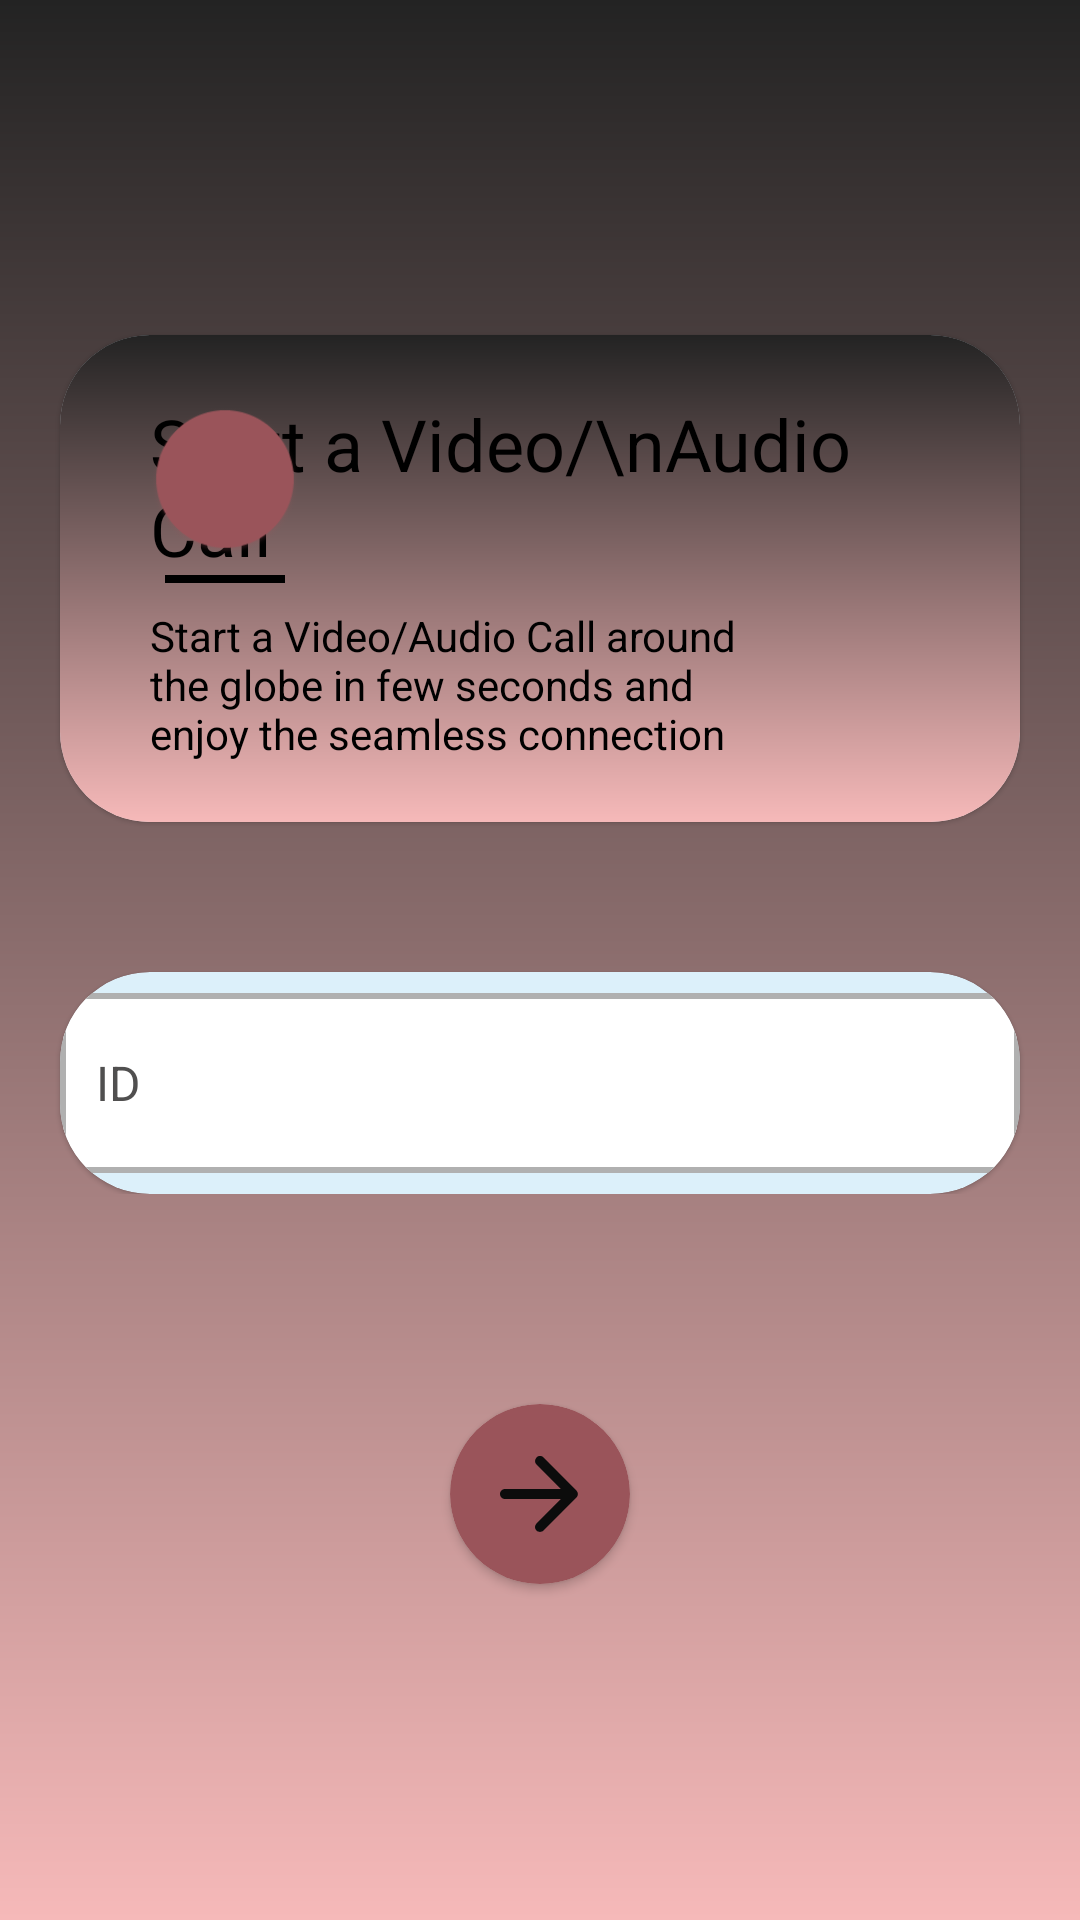

Icons on this 1080px×1920px Android screen, each with the point to tap as [x,y]:
Next Button: [539,1494]
